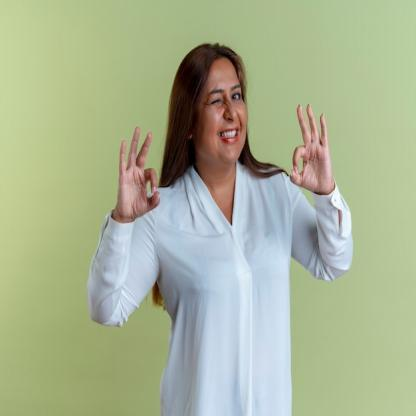ok: (286, 101, 336, 197), (115, 120, 162, 220)
